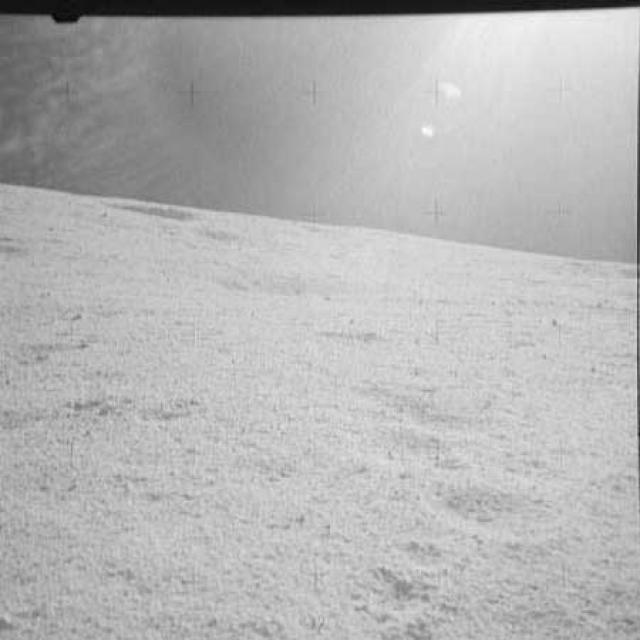crater: (222, 260, 372, 300), (102, 195, 200, 223), (191, 225, 248, 248)
